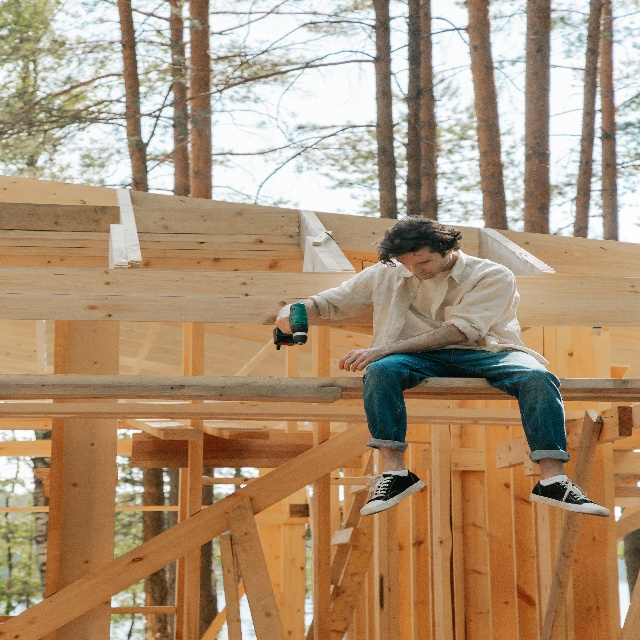Sin_guantes: (337, 345, 381, 373), (275, 306, 293, 334)
